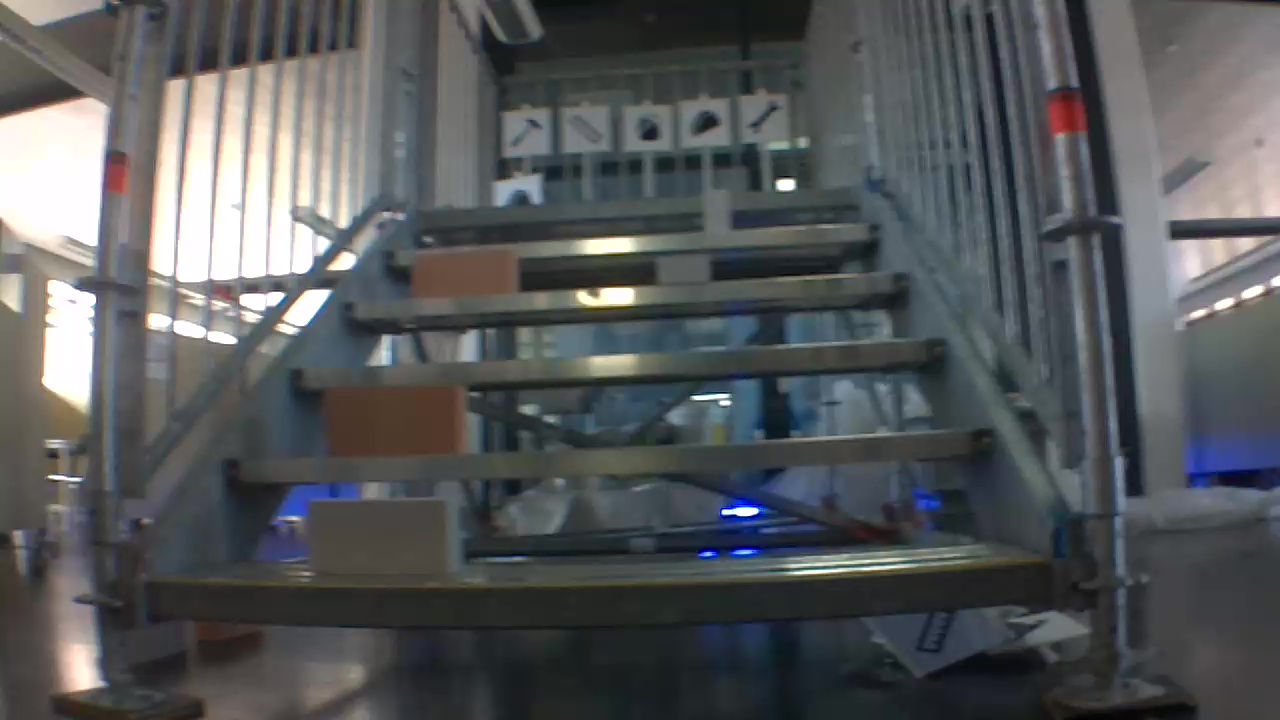brick: (309, 498, 457, 572), (325, 384, 464, 454), (414, 250, 515, 296), (658, 256, 709, 282), (703, 190, 730, 230)
bucket: (631, 110, 667, 143)
edge: (146, 558, 1056, 626), (225, 426, 992, 479), (285, 337, 943, 389), (346, 270, 909, 317), (382, 222, 879, 263), (415, 188, 856, 219)
hammer: (506, 114, 546, 154)
ruler: (564, 110, 609, 150)
stairs: (45, 0, 1199, 716)
steps: (133, 177, 1068, 639)
taco: (687, 104, 722, 139)
wrench: (745, 95, 781, 139)
